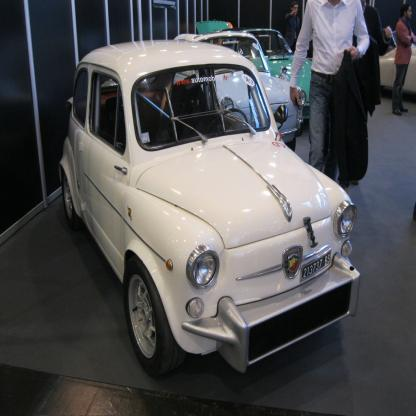Car: (59, 29, 416, 379)
